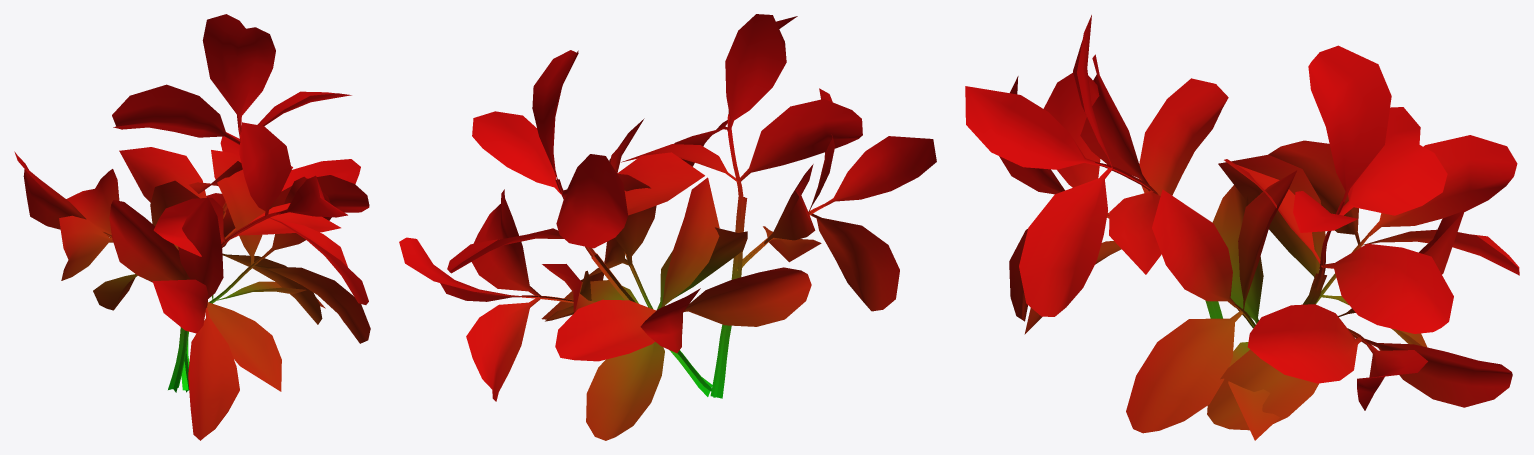
File: Var2_LOD0.fbx
3 views of the same model, side by side, from view 1: azimuth 30°, elevation 25°; view 2: azimuth 150°, elevation 25°; view 3: azimuth 270°, elevation 25° (orthographic). The views are drawn at different scales.
Parts seen in each view (by area): view 1: _apgt_Var2_LOD0; view 2: _apgt_Var2_LOD0; view 3: _apgt_Var2_LOD0.
Part boxes in pixels (x1,y1,x2,y2): _apgt_Var2_LOD0: [14, 14, 370, 440]; _apgt_Var2_LOD0: [399, 14, 936, 440]; _apgt_Var2_LOD0: [965, 15, 1519, 440].
Size of the model in its own units: 26.55 by 23.89 by 29.42.
